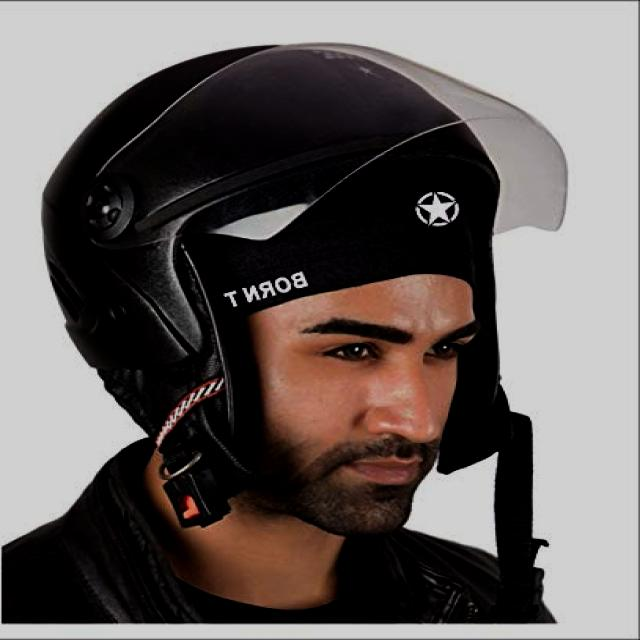helmet: (46, 45, 566, 525)
